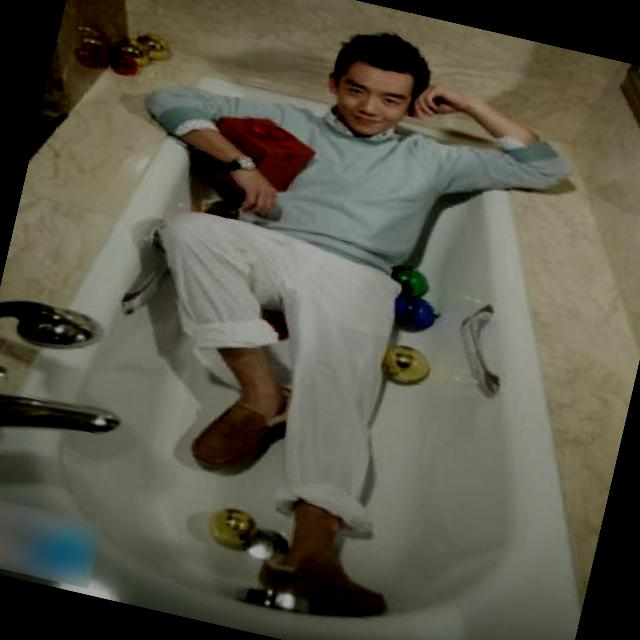Person: (74, 0, 600, 635)
